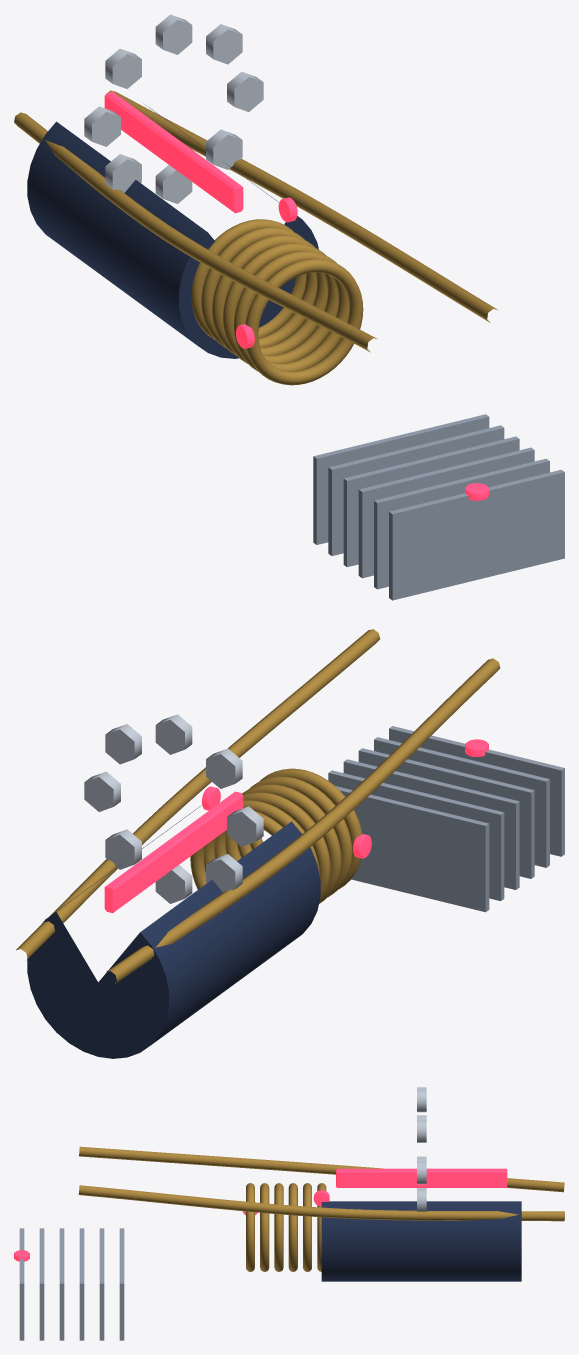
The model's file is tower_filament_ramp_s5.glb.
The picture shows the model from 3 angles, top to bottom: view 1: azimuth 30°, elevation 25°; view 2: azimuth 150°, elevation 25°; view 3: azimuth 270°, elevation 25°; orthographic projection. The views are drawn at different scales.
Parts seen in each view (by area): view 1: filament_radiator_b, filament_heat_shroud, filament_shroud_bolts, filament_heat_pipe_r, filament_heat_pipe_l, filament_shroud_glow, filament_coil_sleeve0, filament_coil_sleeve2, filament_coil_sleeve3, filament_coil_sleeve1, filament_coil_sleeve4, filament_coil_sleeve5; view 2: filament_radiator_b, filament_heat_shroud, filament_shroud_bolts, filament_heat_pipe_r, filament_heat_pipe_l, filament_shroud_glow, filament_coil_sleeve2, filament_coil_sleeve1, filament_coil_sleeve3, filament_coil_sleeve0, filament_coil_sleeve4, filament_coil_sleeve5; view 3: filament_heat_shroud, filament_heat_pipe_l, filament_radiator_b, filament_heat_pipe_r, filament_shroud_glow, filament_shroud_bolts, filament_coil_sleeve2, filament_coil_sleeve3, filament_coil_sleeve1, filament_coil_sleeve4, filament_coil_sleeve0, filament_coil_sleeve5.
Part boxes in pixels (x1,y1,x2,y2): filament_radiator_b: (313,414,564,600); filament_heat_shroud: (27,105,318,358); filament_shroud_bolts: (84,14,263,203); filament_heat_pipe_r: (14,112,377,352); filament_heat_pipe_l: (108,90,498,322); filament_shroud_glow: (104,91,243,213); filament_coil_sleeve0: (245,259,363,385); filament_coil_sleeve2: (223,243,338,363); filament_coil_sleeve3: (212,235,327,355); filament_coil_sleeve1: (233,251,349,371); filament_coil_sleeve4: (201,227,316,347); filament_coil_sleeve5: (191,219,305,339); filament_radiator_b: (328,726,564,912); filament_heat_shroud: (27,805,320,1058); filament_shroud_bolts: (84,714,263,903); filament_heat_pipe_r: (106,658,500,984); filament_heat_pipe_l: (16,629,380,960); filament_shroud_glow: (104,791,243,913); filament_coil_sleeve2: (226,784,341,903); filament_coil_sleeve1: (237,776,352,897); filament_coil_sleeve3: (215,792,330,901); filament_coil_sleeve0: (250,768,362,889); filament_coil_sleeve4: (204,800,319,876); filament_coil_sleeve5: (190,811,282,889); filament_heat_shroud: (321,1201,521,1281); filament_heat_pipe_l: (78,1185,564,1221); filament_radiator_b: (19,1228,124,1340); filament_heat_pipe_r: (79,1146,564,1192); filament_shroud_glow: (336,1168,507,1187); filament_shroud_bolts: (417,1087,426,1211); filament_coil_sleeve2: (274,1183,283,1271); filament_coil_sleeve3: (288,1183,297,1271); filament_coil_sleeve1: (260,1183,269,1271); filament_coil_sleeve4: (303,1183,311,1271); filament_coil_sleeve0: (246,1183,254,1271); filament_coil_sleeve5: (317,1183,326,1271).
Bounding box in the file's own units: 0.46 × 0.865 × 1.93.
